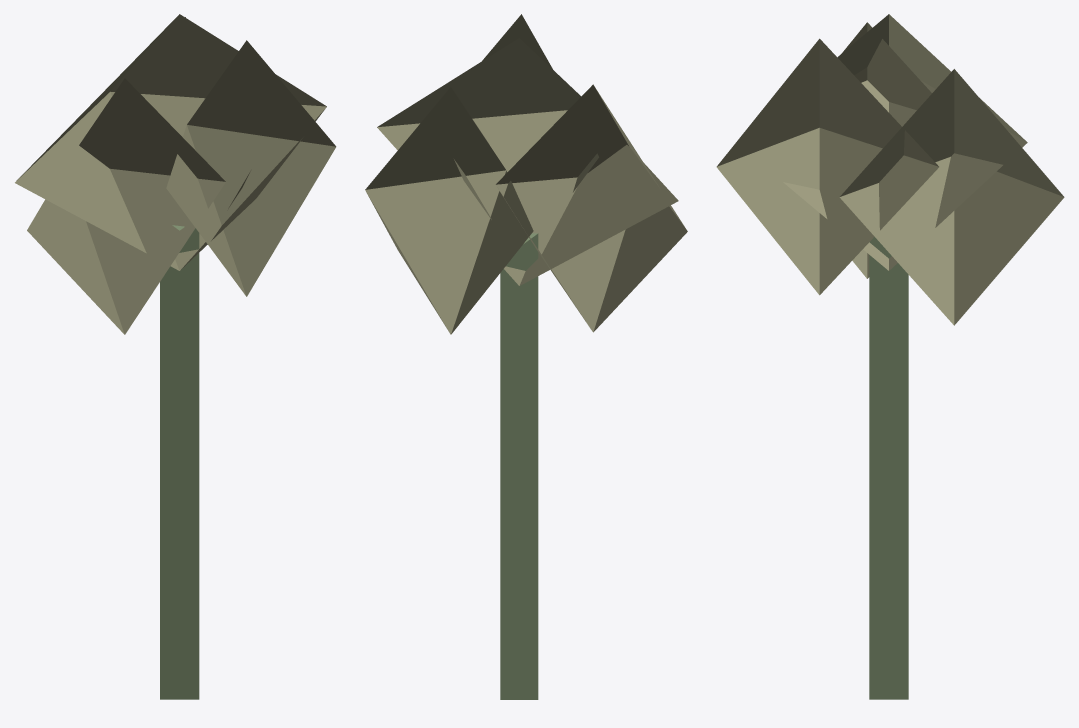
Rendered from tree.sub.bamboo_grove__winter.glb.
3 renders of one model, left to right at view 1: azimuth 30°, elevation 25°; view 2: azimuth 150°, elevation 25°; view 3: azimuth 270°, elevation 25°, orthographic. The views are drawn at different scales.
Visible parts, largest first — view 1: tree.sub.bamboo_grove__winter; view 2: tree.sub.bamboo_grove__winter; view 3: tree.sub.bamboo_grove__winter.
Part boxes in pixels (x1,y1,x2,y2): tree.sub.bamboo_grove__winter: (15,14,336,699); tree.sub.bamboo_grove__winter: (365,14,687,699); tree.sub.bamboo_grove__winter: (716,14,1064,699).
Bounding box in the file's own units: 5.06 × 10.68 × 4.88.
